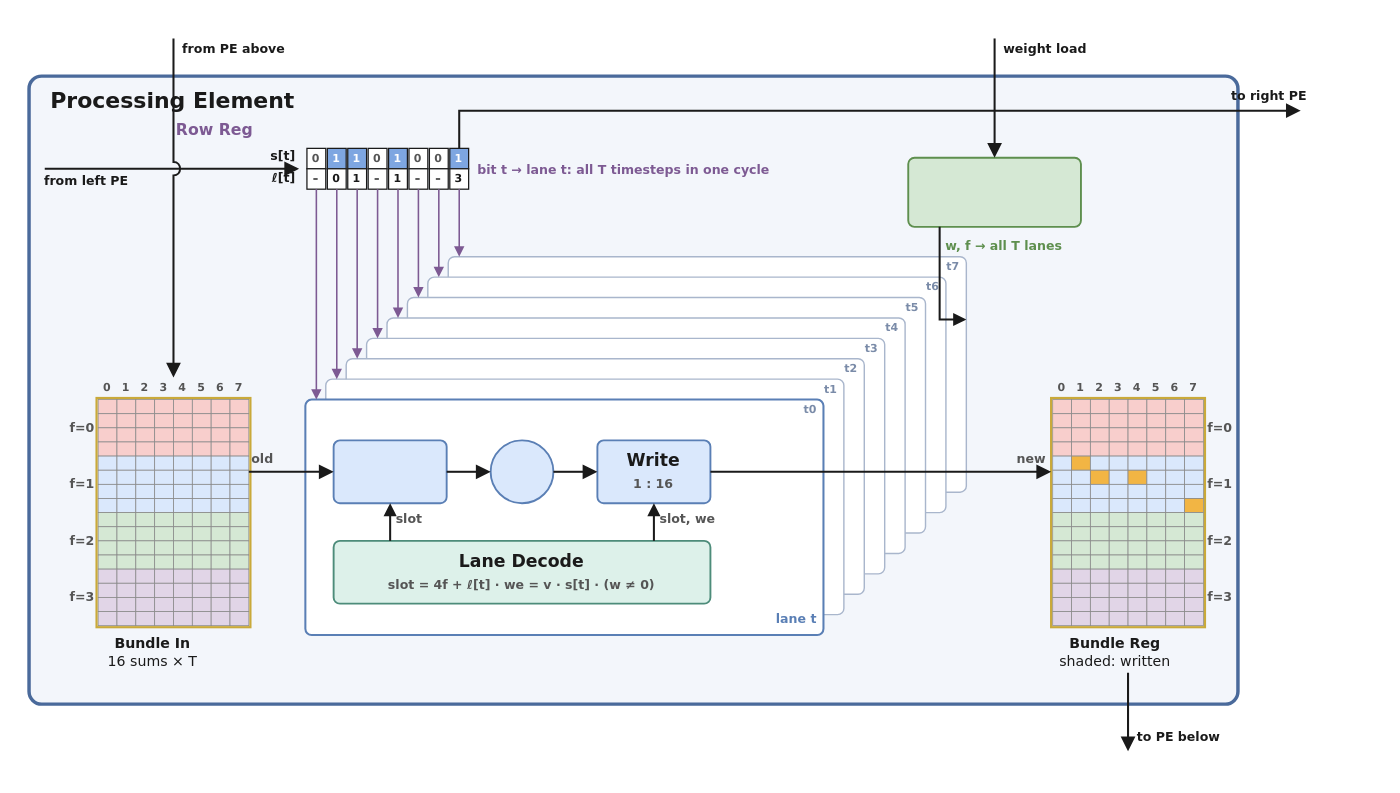
This 1400x793 diagram has some shape labels left out. The box of each missing label's shape, as (x1, y1, x2, y2) in pixels:
+ w: (489, 439, 554, 503)
Read 16 : 1: (332, 439, 447, 503)
Weight Reg w · f = 1 (+ shadow): (907, 156, 1081, 227)
